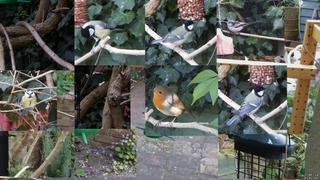blue tit: (20, 89, 37, 116)
great tit: (226, 85, 267, 126), (150, 20, 197, 54), (81, 20, 125, 54)
long tailed tit: (226, 20, 264, 35)
robin: (149, 85, 198, 130)
